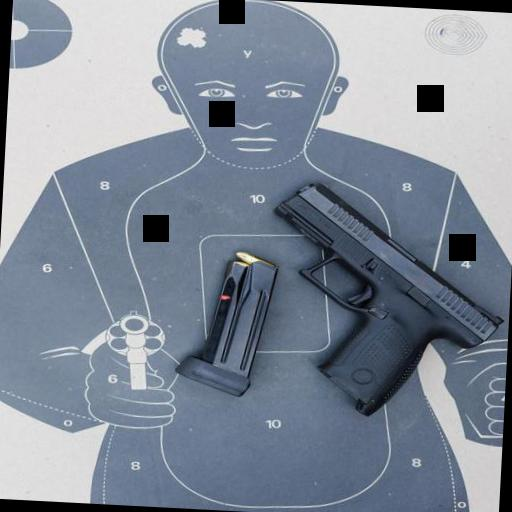Handgun: (263, 173, 510, 425)
